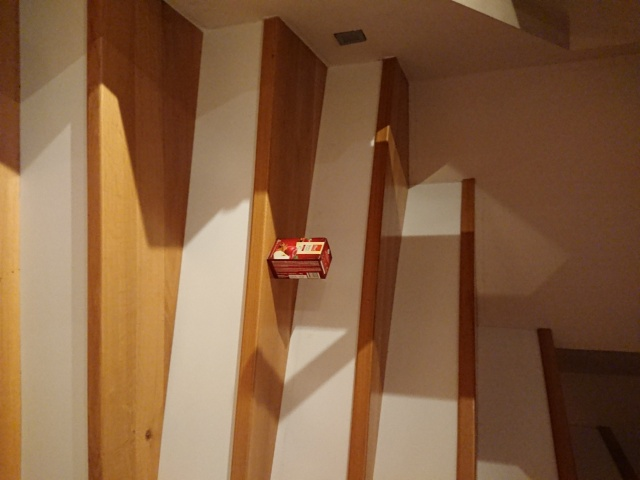Franck Apple Cinnamon Tea 60g: (264, 234, 335, 282)
